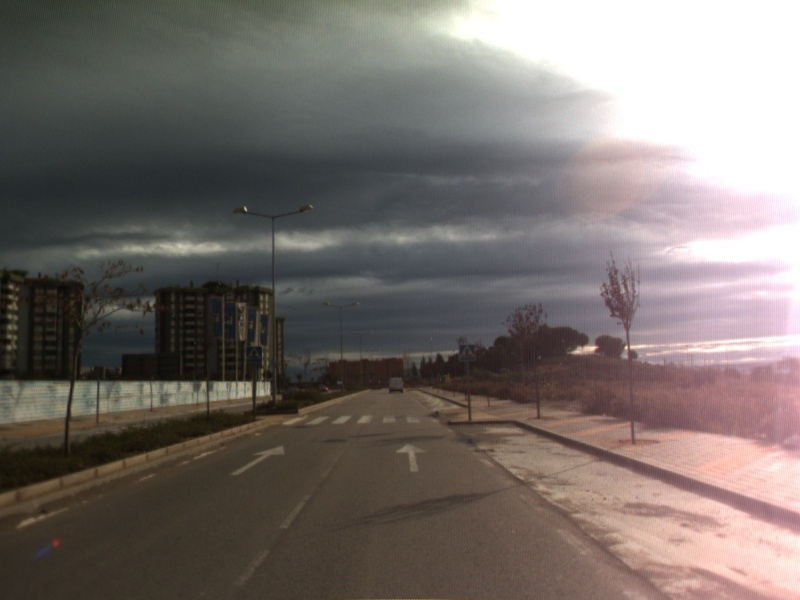STRAIGHT: (227, 443, 287, 478), (393, 441, 429, 474)
